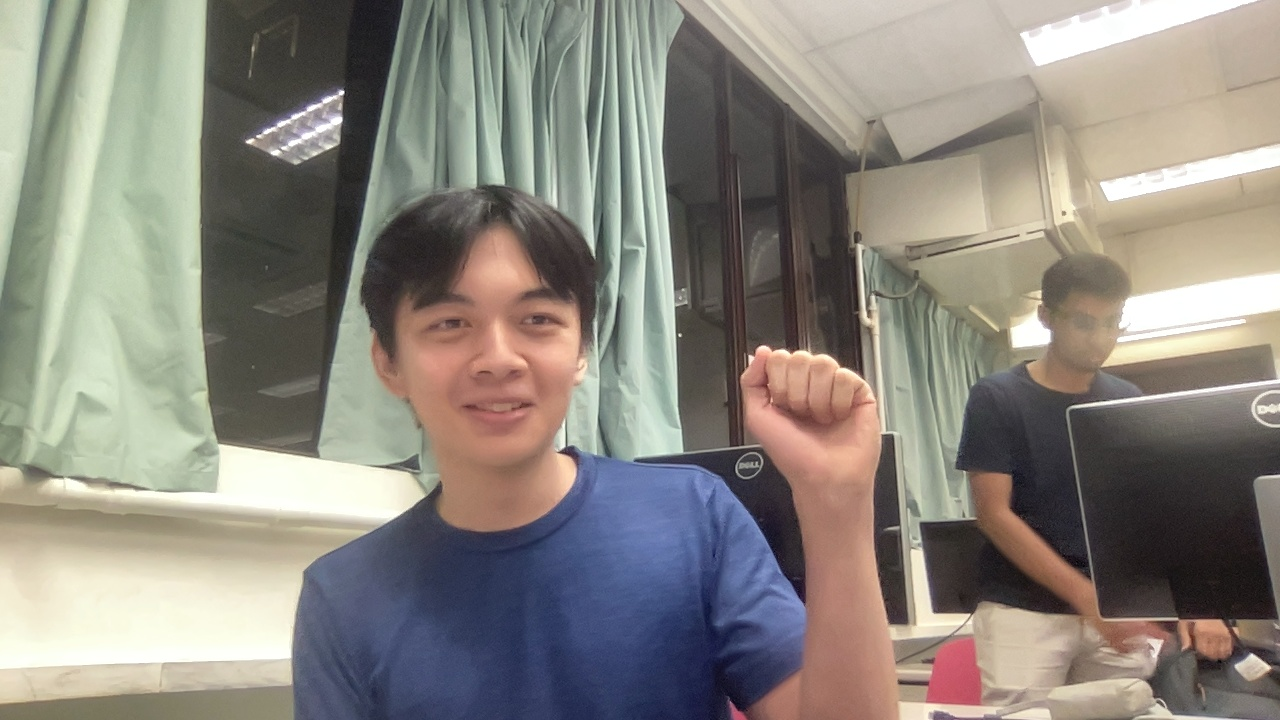yes: (704, 317, 947, 531)
